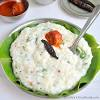curd_rice: (16, 17, 93, 85)
